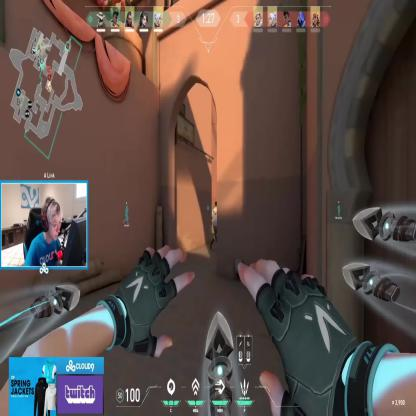enemy: (209, 202, 221, 248)
enemy_head: (214, 202, 218, 207)
